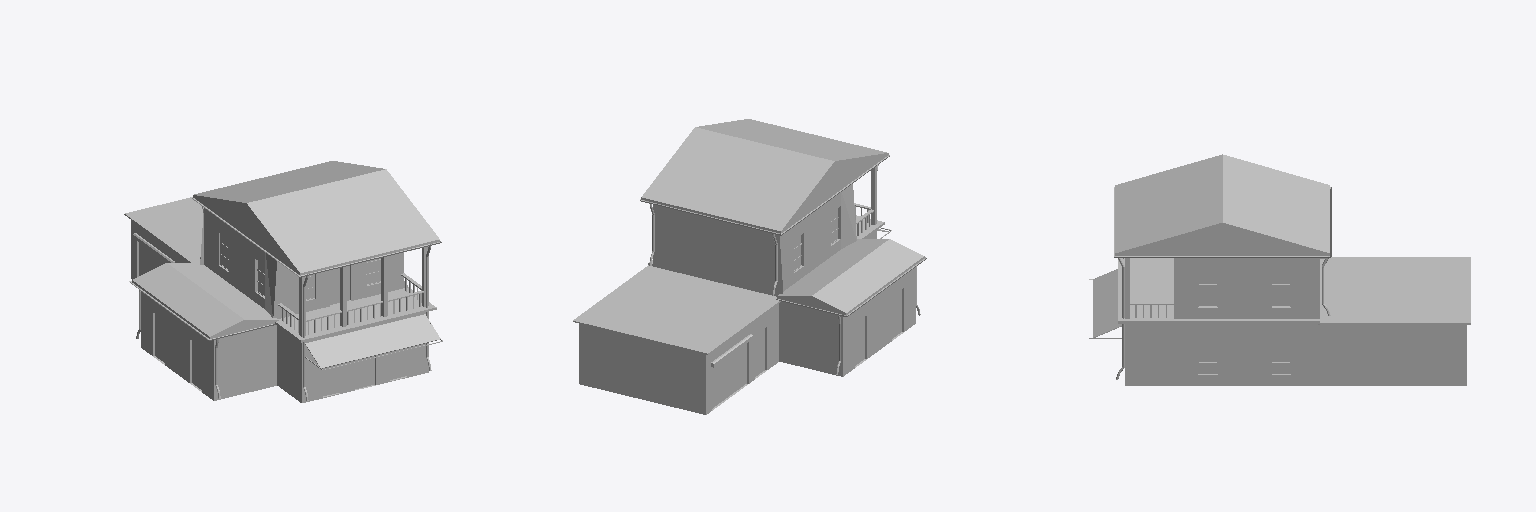
The model's file is LPBuildX13r_obj.obj.
3 views of the same model, side by side, from view 1: azimuth 30°, elevation 25°; view 2: azimuth 150°, elevation 25°; view 3: azimuth 270°, elevation 25° (orthographic).
Parts seen in each view (by area): view 1: LPBldX13r; view 2: LPBldX13r; view 3: LPBldX13r.
Part boxes in pixels (x1,y1,x2,y2): LPBldX13r: (124, 161, 442, 402); LPBldX13r: (573, 119, 926, 414); LPBldX13r: (1089, 154, 1470, 385).
Bounding box in the file's own units: 974 × 750 × 1567.